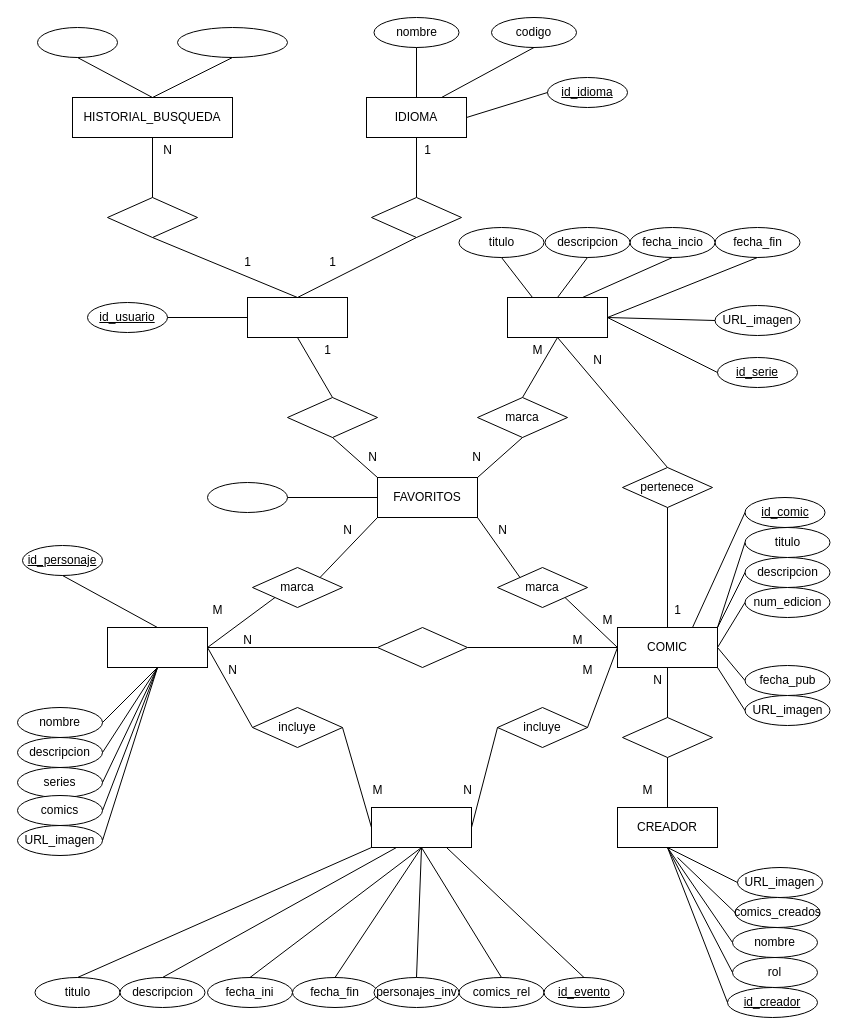
Some shapes in this 848 by 1035 pixel diagram are drawn without their labels. The shapes that lost their labels are listed below. From the top down, each one's centre as x and y in pixels, then its label:
the point at 77,42: id_historial
the point at 232,42: termino_busqueda
the point at 152,217: realiza
the point at 416,217: utiliza
the point at 297,317: USUARIO
the point at 557,317: SERIE
the point at 332,417: guarda
the point at 247,497: id_favoritos
the point at 157,647: PERSONAJE
the point at 422,647: aparece
the point at 667,737: tiene
the point at 421,827: EVENTO
